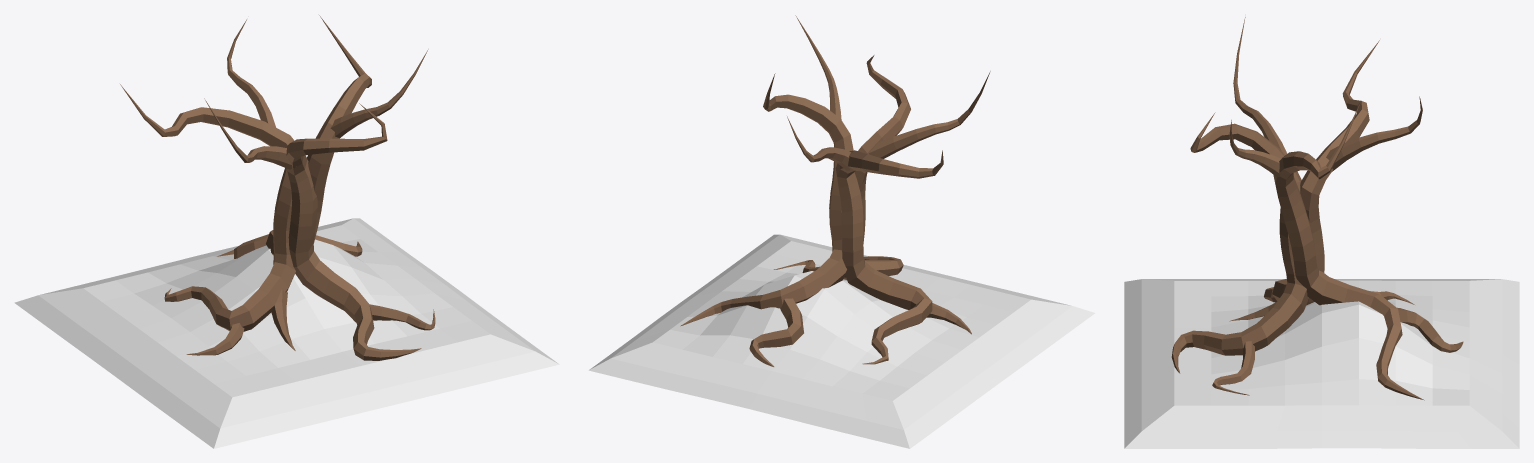
Rendered from tree_swamp_2.blend.fbx.
3 renders of one model, left to right at view 1: azimuth 30°, elevation 25°; view 2: azimuth 150°, elevation 25°; view 3: azimuth 270°, elevation 25°, orthographic. The views are drawn at different scales.
Parts seen in each view (by area): view 1: Plane, NurbsPath.002, NurbsPath.001, NurbsPath; view 2: Plane, NurbsPath.001, NurbsPath, NurbsPath.002; view 3: Plane, NurbsPath, NurbsPath.002, NurbsPath.001.
Boxes of the visible parts, x1,y1,x2,y2 form: Plane: (14, 218, 559, 448); NurbsPath.002: (204, 98, 435, 360); NurbsPath.001: (120, 19, 295, 355); NurbsPath: (217, 15, 428, 258); Plane: (588, 234, 1095, 448); NurbsPath.001: (787, 116, 971, 364); NurbsPath: (680, 15, 853, 366); NurbsPath.002: (773, 55, 990, 279); Plane: (1124, 279, 1519, 448); NurbsPath: (1229, 102, 1463, 400); NurbsPath.002: (1171, 17, 1308, 395); NurbsPath.001: (1229, 40, 1422, 321).
Bounding box in the file's own units: 697 × 570 × 697.
